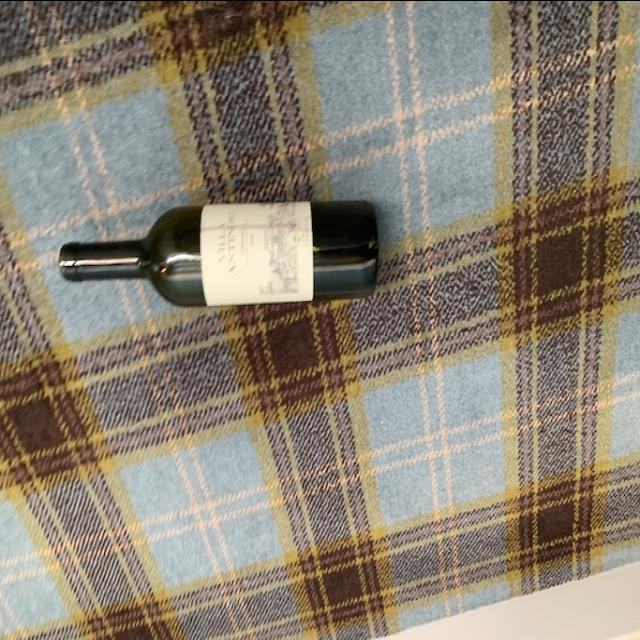Glass Bottle: (58, 195, 380, 311)
